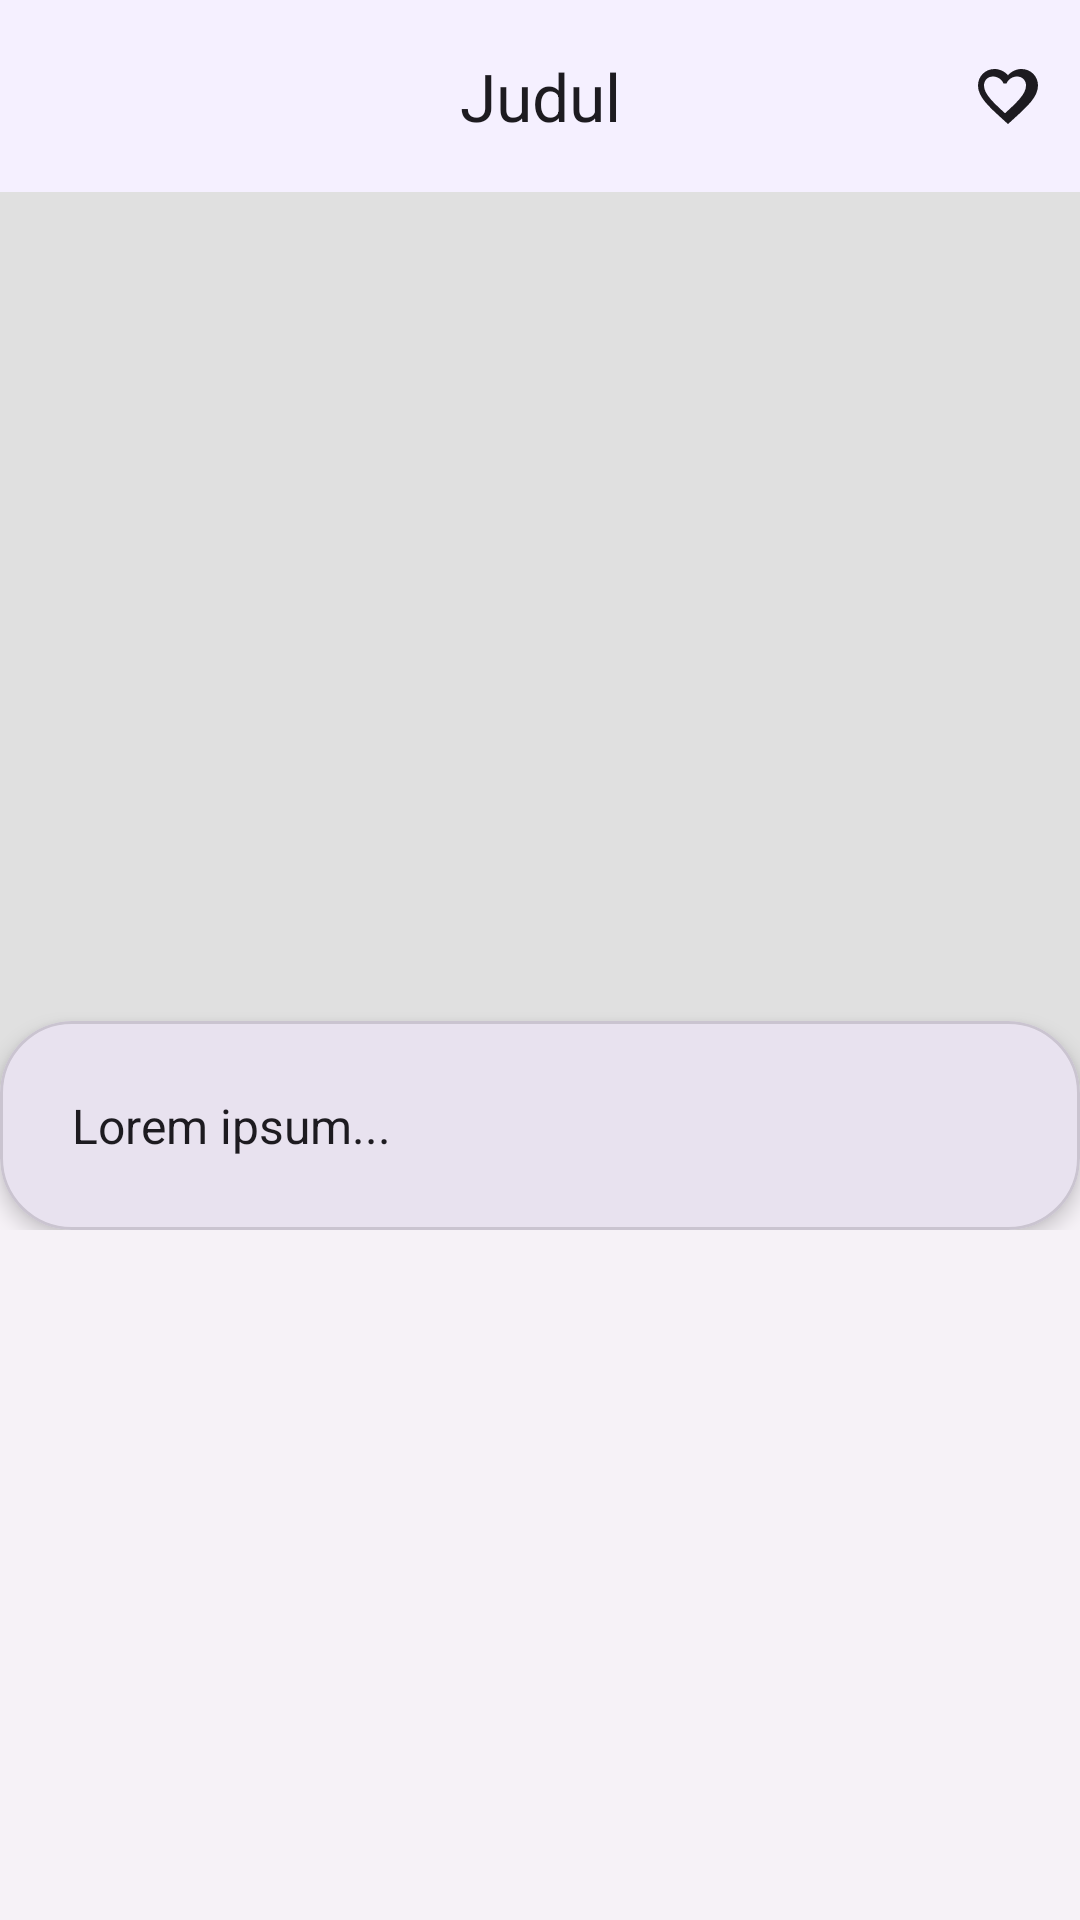

Screen size 1080*1920. Icon name, then its box in pixels as bbox=[x1, y1, x2, y2]:
favorite: bbox=[978, 69, 1038, 124]
